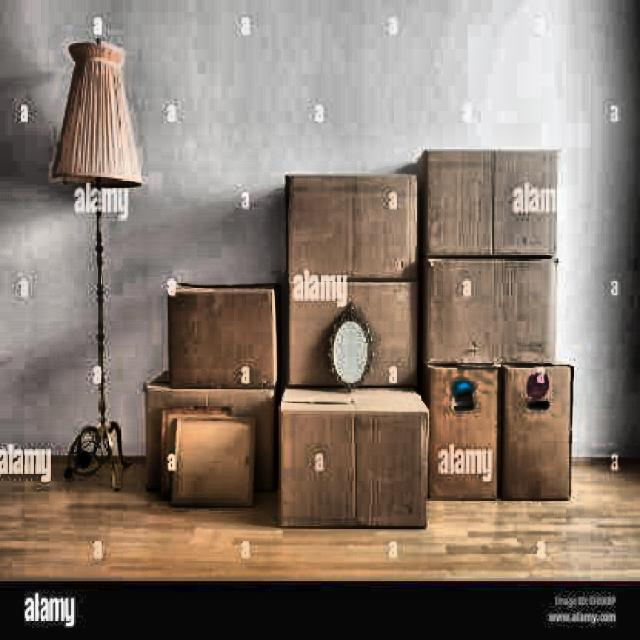Cardbox: (277, 149, 574, 522), (148, 274, 284, 522)
